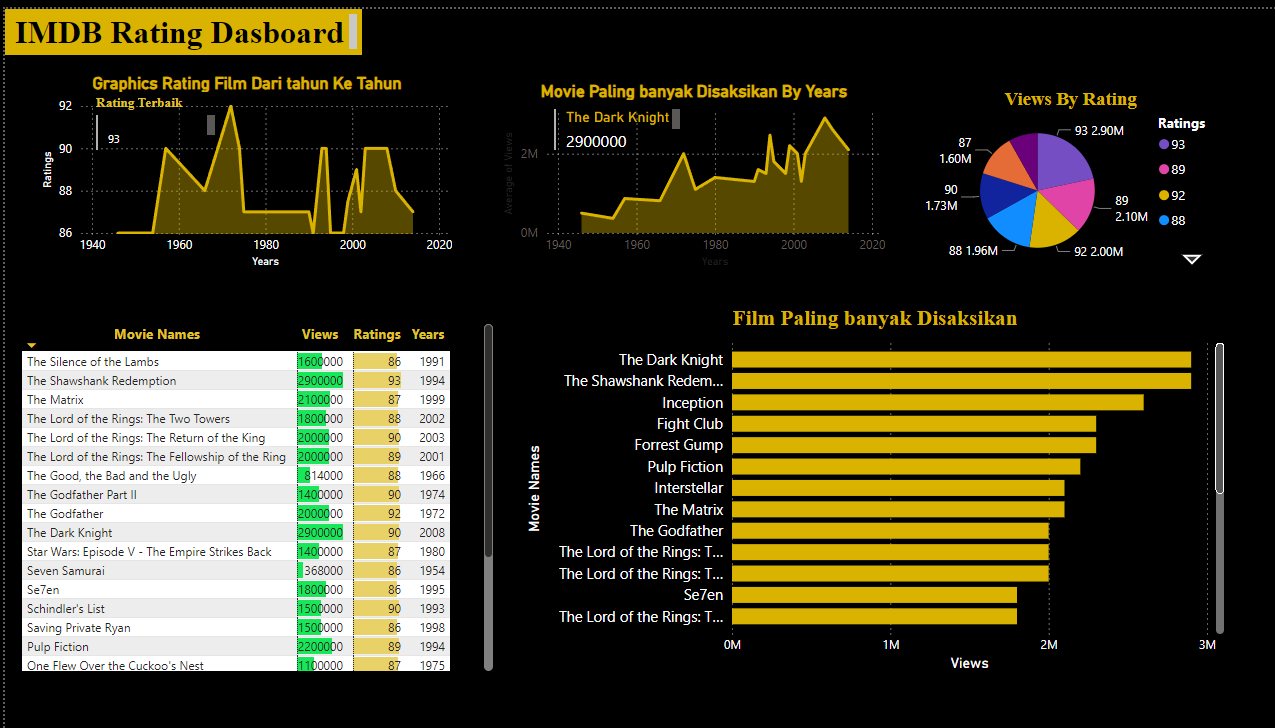

The dashboard page shown, as its layout file describes it:
{"tool":"powerbi","page":{"name":"Page 1","canvas":[1280,720],"ordinal":0},"visuals":[{"type":"tableEx","fields":{"Values":["Rating IMDB_numeric.Movie Names","Sum(Rating IMDB_numeric.Views)","Sum(Rating IMDB_numeric.Ratings)","Sum(Rating IMDB_numeric.Years)"]},"box":[11,310,482,357],"z":0},{"type":"areaChart","title":"Graphics Rating Film Dari tahun Ke Tahun","fields":{"Category":["Rating IMDB_numeric.Years"],"Y":["Avg(Rating IMDB_numeric.Ratings)"]},"box":[32,64,420,199],"z":1000},{"type":"multiRowCard","title":"Rating Terbaik","fields":{"Values":["Max(Rating IMDB_numeric.Ratings)","Rating IMDB_numeric.Movie Names"]},"box":[86,86,129,60],"z":2000},{"type":"areaChart","title":"Movie Paling banyak Disaksikan By Years","fields":{"Category":["Rating IMDB_numeric.Years"],"Y":["Avg(Rating IMDB_numeric.Views)"]},"box":[493,72,392,191],"z":3000},{"type":"multiRowCard","fields":{"Values":["Max(Rating IMDB_numeric.Views)","Rating IMDB_numeric.Movie Names"]},"box":[544,95,136,51],"z":4000},{"type":"pieChart","title":"Views By Rating","fields":{"Category":["Rating IMDB_numeric.Ratings"],"Y":["Avg(Rating IMDB_numeric.Views)"]},"box":[907,79,317,184],"z":5000},{"type":"clusteredBarChart","title":"Film Paling banyak Disaksikan","fields":{"Category":["Rating IMDB_numeric.Movie Names"],"Y":["Avg(Rating IMDB_numeric.Views)"]},"box":[515.5,296.7,708.1,370.6],"z":6000},{"type":"textbox","box":[0,0,357,46],"z":7000}]}

Visuals, with their boxes in screenshot pixels (x1, y1, x2, y2), scaled from the page's 1280x720 canvas onto the 1275x728 screenshot:
tableEx - Rating IMDB_numeric.Movie Names x Sum(Rating IMDB_numeric.Views): left=11, top=313, right=491, bottom=674
"Graphics Rating Film Dari tahun Ke Tahun" areaChart: left=32, top=65, right=450, bottom=266
"Rating Terbaik" multiRowCard: left=86, top=87, right=214, bottom=148
"Movie Paling banyak Disaksikan By Years" areaChart: left=491, top=73, right=882, bottom=266
multiRowCard - Max(Rating IMDB_numeric.Views) x Rating IMDB_numeric.Movie Names: left=542, top=96, right=677, bottom=148
"Views By Rating" pieChart: left=903, top=80, right=1219, bottom=266
"Film Paling banyak Disaksikan" clusteredBarChart: left=513, top=300, right=1219, bottom=675
textbox: left=0, top=0, right=356, bottom=47
